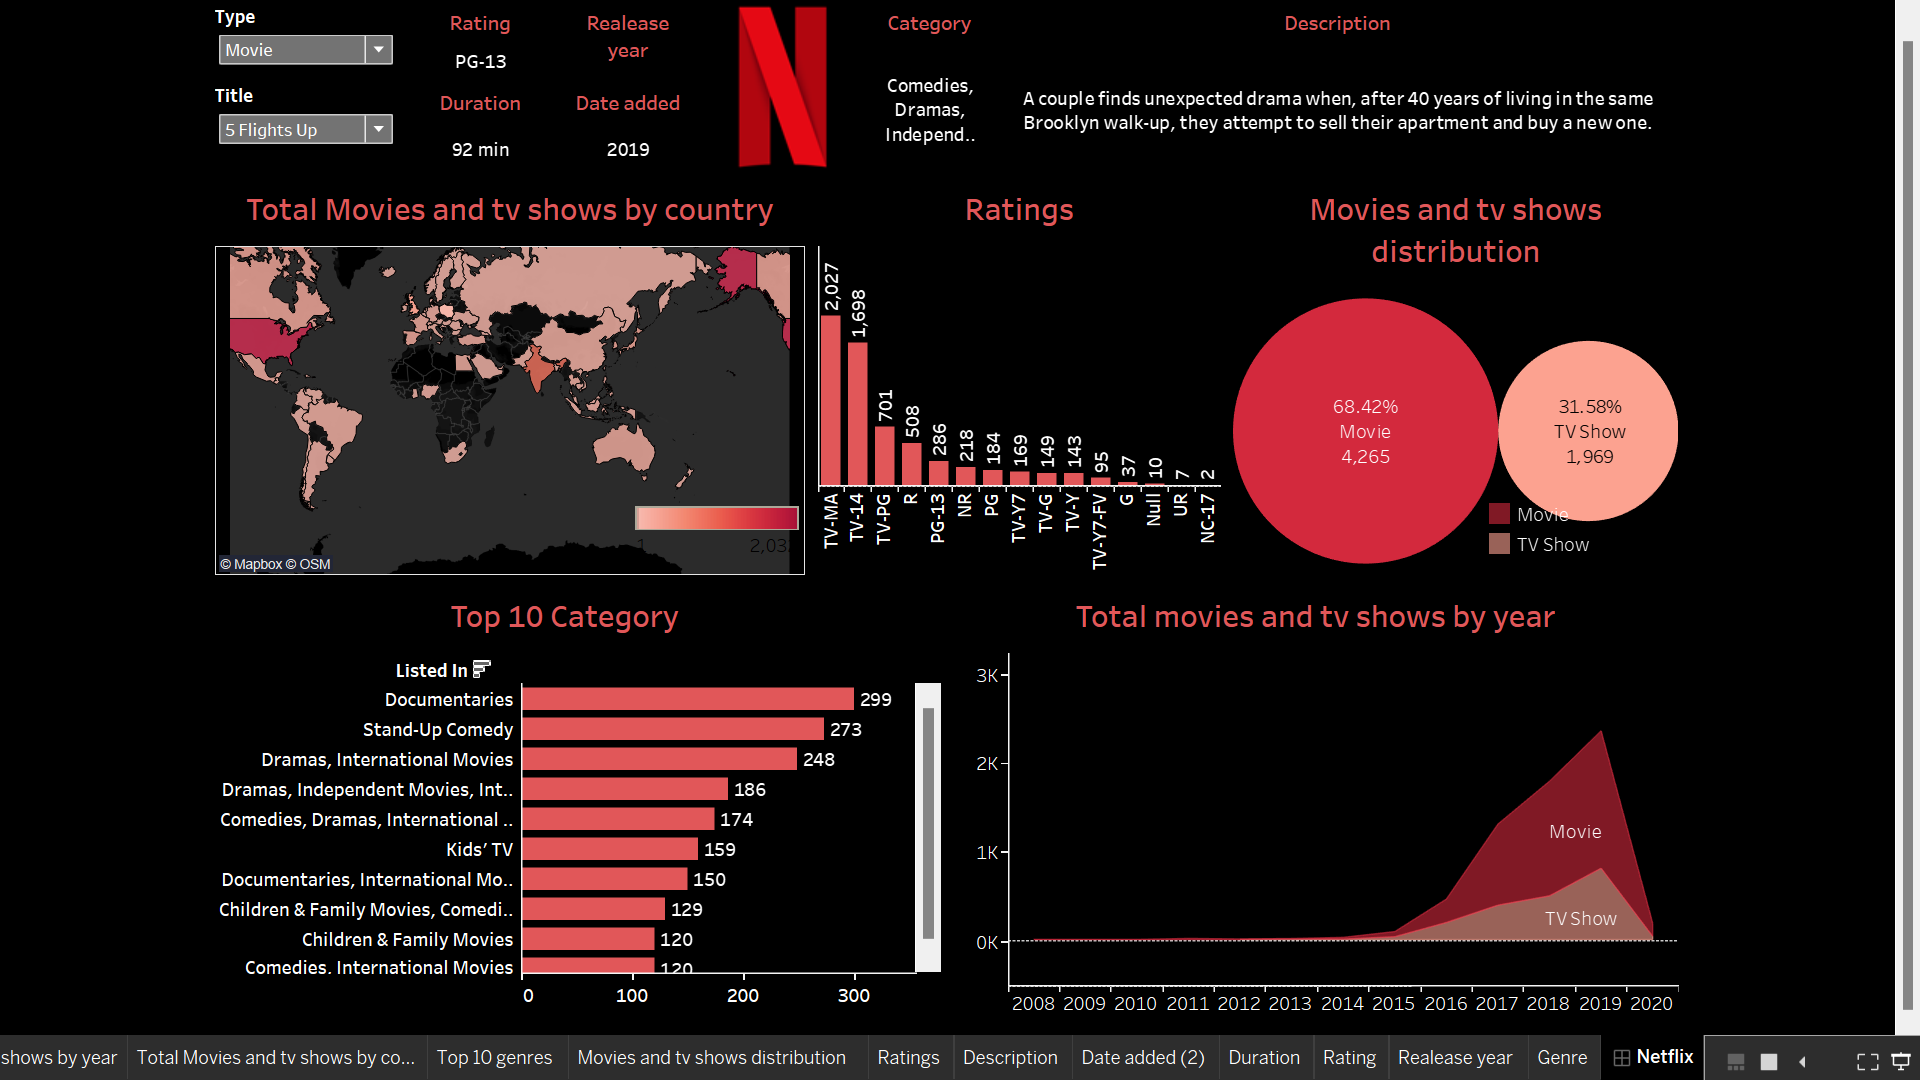

Layout of this report page (visuals, bound fields, positions):
{"tool":"tableau","page":{"name":"Netflix","canvas":[1200,800],"ordinal":0},"visuals":[{"type":"filter","title":"Description","param":"[federated.1f9rn1n14ejf8717gr3qq0w61jvo].[none:type:nk]","box":[8,8,157,61]},{"type":"worksheet","title":"Rating","mark":"Automatic","box":[165,8,123,61]},{"type":"worksheet","title":"Realease year","mark":"Automatic","box":[288,8,112,61]},{"type":"image","param":"C:/Users/91767/OneDrive/Desktop/PROJECTS/Tableau/Netflix1.png","box":[400,8,137,136]},{"type":"worksheet","title":"Genre","mark":"Automatic","box":[537,8,86,136]},{"type":"worksheet","title":"Description","mark":"Automatic","box":[623,8,569,136]},{"type":"filter","title":"Description","param":"[federated.1f9rn1n14ejf8717gr3qq0w61jvo].[none:title:nk]","box":[8,69,157,75]},{"type":"worksheet","title":"Duration","mark":"Automatic","box":[165,69,123,75]},{"type":"worksheet","title":"Date added (2)","mark":"Automatic","box":[288,69,112,75]},{"type":"worksheet","title":"Total Movies and tv shows by country","mark":"Multipolygon","box":[8,144,484,324]},{"type":"worksheet","title":"Ratings","mark":"Automatic","rows":["show_id"],"cols":["rating"],"box":[492,144,333,324]},{"type":"worksheet","title":"Movies and tv shows distribution","mark":"Circle","box":[825,144,367,324]},{"type":"legend","title":"Total movies and tv shows by year","param":"[federated.1f9rn1n14ejf8717gr3qq0w61jvo].[none:type:nk]","box":[1030,391,140,58]},{"type":"legend","title":"Total Movies and tv shows by country","param":"[federated.1f9rn1n14ejf8717gr3qq0w61jvo].[ctd:show_id:qk]","box":[347,393,140,62]},{"type":"worksheet","title":"Top 10 genres","mark":"Automatic","rows":["listed_in"],"cols":["show_id"],"box":[8,468,592,324]},{"type":"worksheet","title":"Total movies and tv shows by year","mark":"Area","rows":["show_id"],"cols":["date_added"],"box":[600,468,592,324]}]}

Visuals, with their boxes on the page's 1200x800 design canvas (x1, y1, x2, y2). These are canvas units, not pixel positions in the 1920x1080 screenshot, which may show the page scaled, cropped or inside an application window:
"Description" filter: 8:8:165:69
"Rating" worksheet: 165:8:288:69
"Realease year" worksheet: 288:8:400:69
image: 400:8:537:144
"Genre" worksheet: 537:8:623:144
"Description" worksheet: 623:8:1192:144
"Description" filter: 8:69:165:144
"Duration" worksheet: 165:69:288:144
"Date added (2)" worksheet: 288:69:400:144
"Total Movies and tv shows by country" worksheet (Multipolygon marks): 8:144:492:468
"Ratings" worksheet: 492:144:825:468
"Movies and tv shows distribution" worksheet (Circle marks): 825:144:1192:468
"Total movies and tv shows by year" legend: 1030:391:1170:449
"Total Movies and tv shows by country" legend: 347:393:487:455
"Top 10 genres" worksheet: 8:468:600:792
"Total movies and tv shows by year" worksheet (Area marks): 600:468:1192:792
